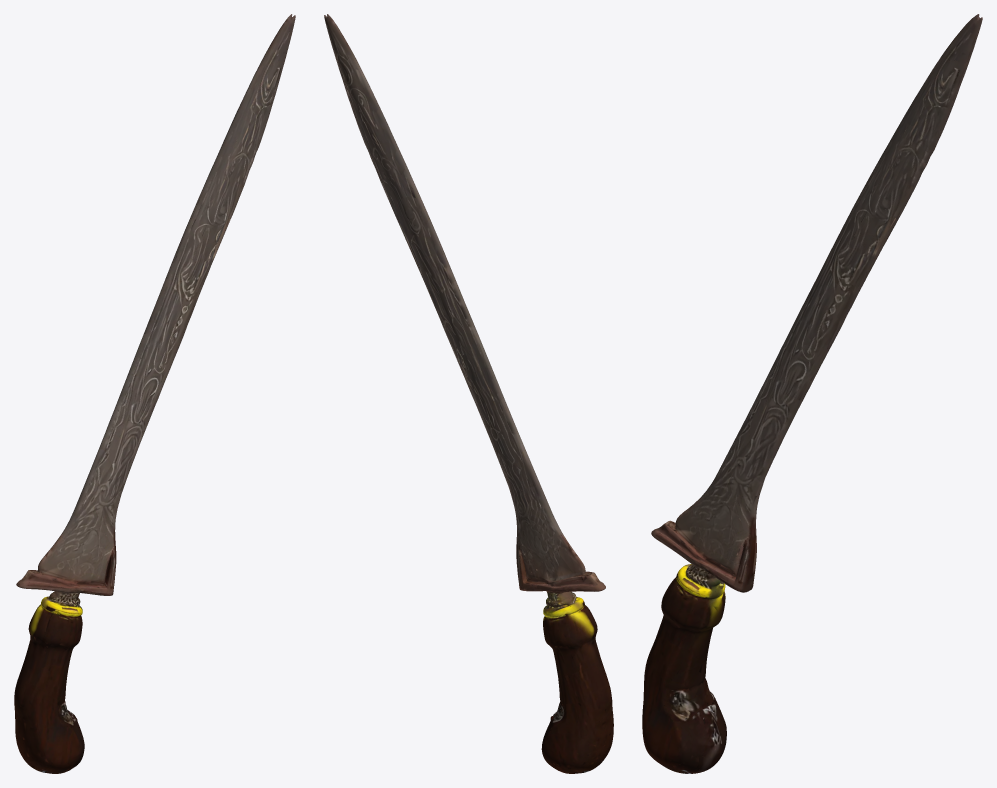
The model's file is keris-3-fixed.glb.
3 renders of one model, left to right at view 1: azimuth 30°, elevation 25°; view 2: azimuth 150°, elevation 25°; view 3: azimuth 330°, elevation 25°, orthographic. The views are drawn at different scales.
Visible parts, largest first — view 1: node_0; view 2: node_0; view 3: node_0.
Boxes of the visible parts, x1,y1,x2,y2 form: node_0: (14, 14, 295, 773); node_0: (324, 14, 613, 773); node_0: (642, 14, 982, 773).
Size of the model in its own units: 0.3254 by 0.7714 by 0.0707.
Materials: 1 (1 with a texture image).
